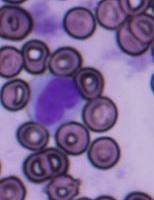M: (25, 73, 82, 130)
